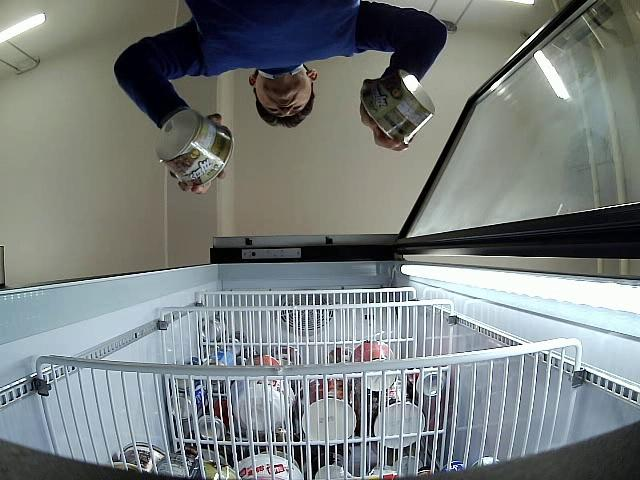00_hand: (170, 113, 226, 193), (360, 101, 408, 151)
03_chapagetti_L: (155, 109, 234, 187), (361, 69, 435, 146)
